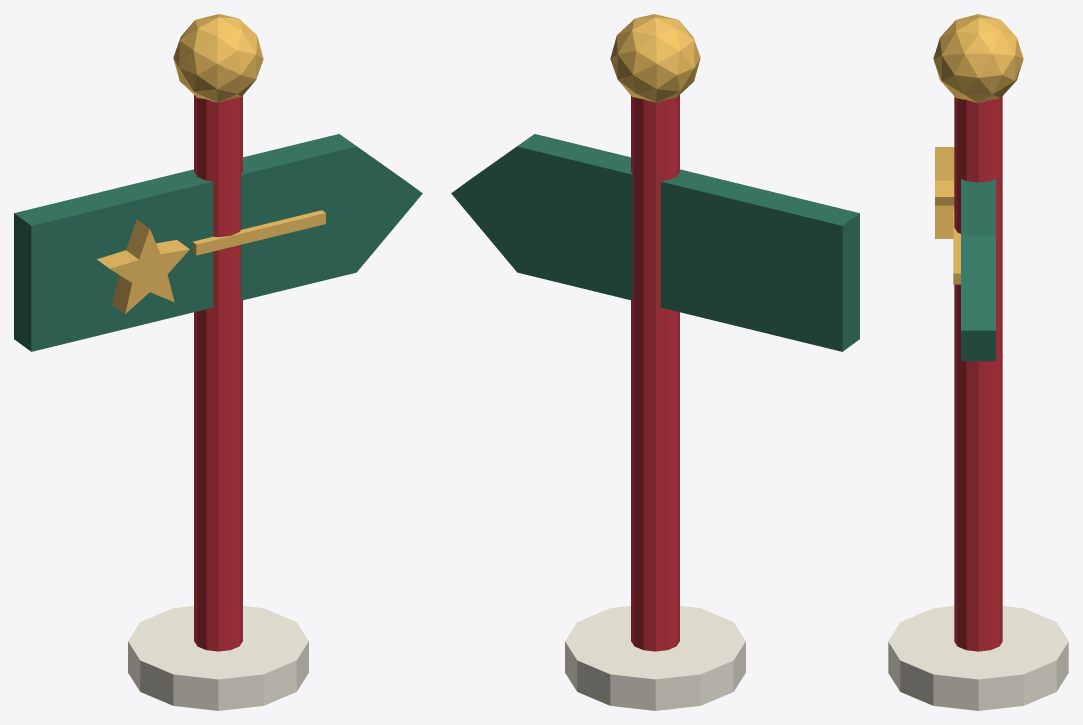
The model's file is polesign.glb.
3 views of the same model, side by side, from view 1: azimuth 30°, elevation 25°; view 2: azimuth 150°, elevation 25°; view 3: azimuth 270°, elevation 25° (orthographic).
Visible parts, largest first — view 1: north-pole-sign; view 2: north-pole-sign; view 3: north-pole-sign.
Boxes of the visible parts, x1=… form: north-pole-sign: x1=14, y1=14, x2=422, y2=710; north-pole-sign: x1=451, y1=14, x2=859, y2=710; north-pole-sign: x1=888, y1=14, x2=1068, y2=710.
Size of the model in its own units: 1.3 by 2.08 by 0.52.
